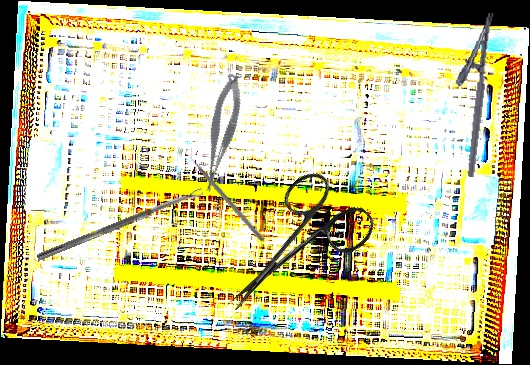Chopper: (184, 146, 270, 243)
Iris Scissors: (201, 161, 381, 341)
Micro Scissor: (188, 72, 253, 194)
Needle Holder: (444, 9, 495, 178)
Surgical Spoon: (35, 187, 205, 263)
